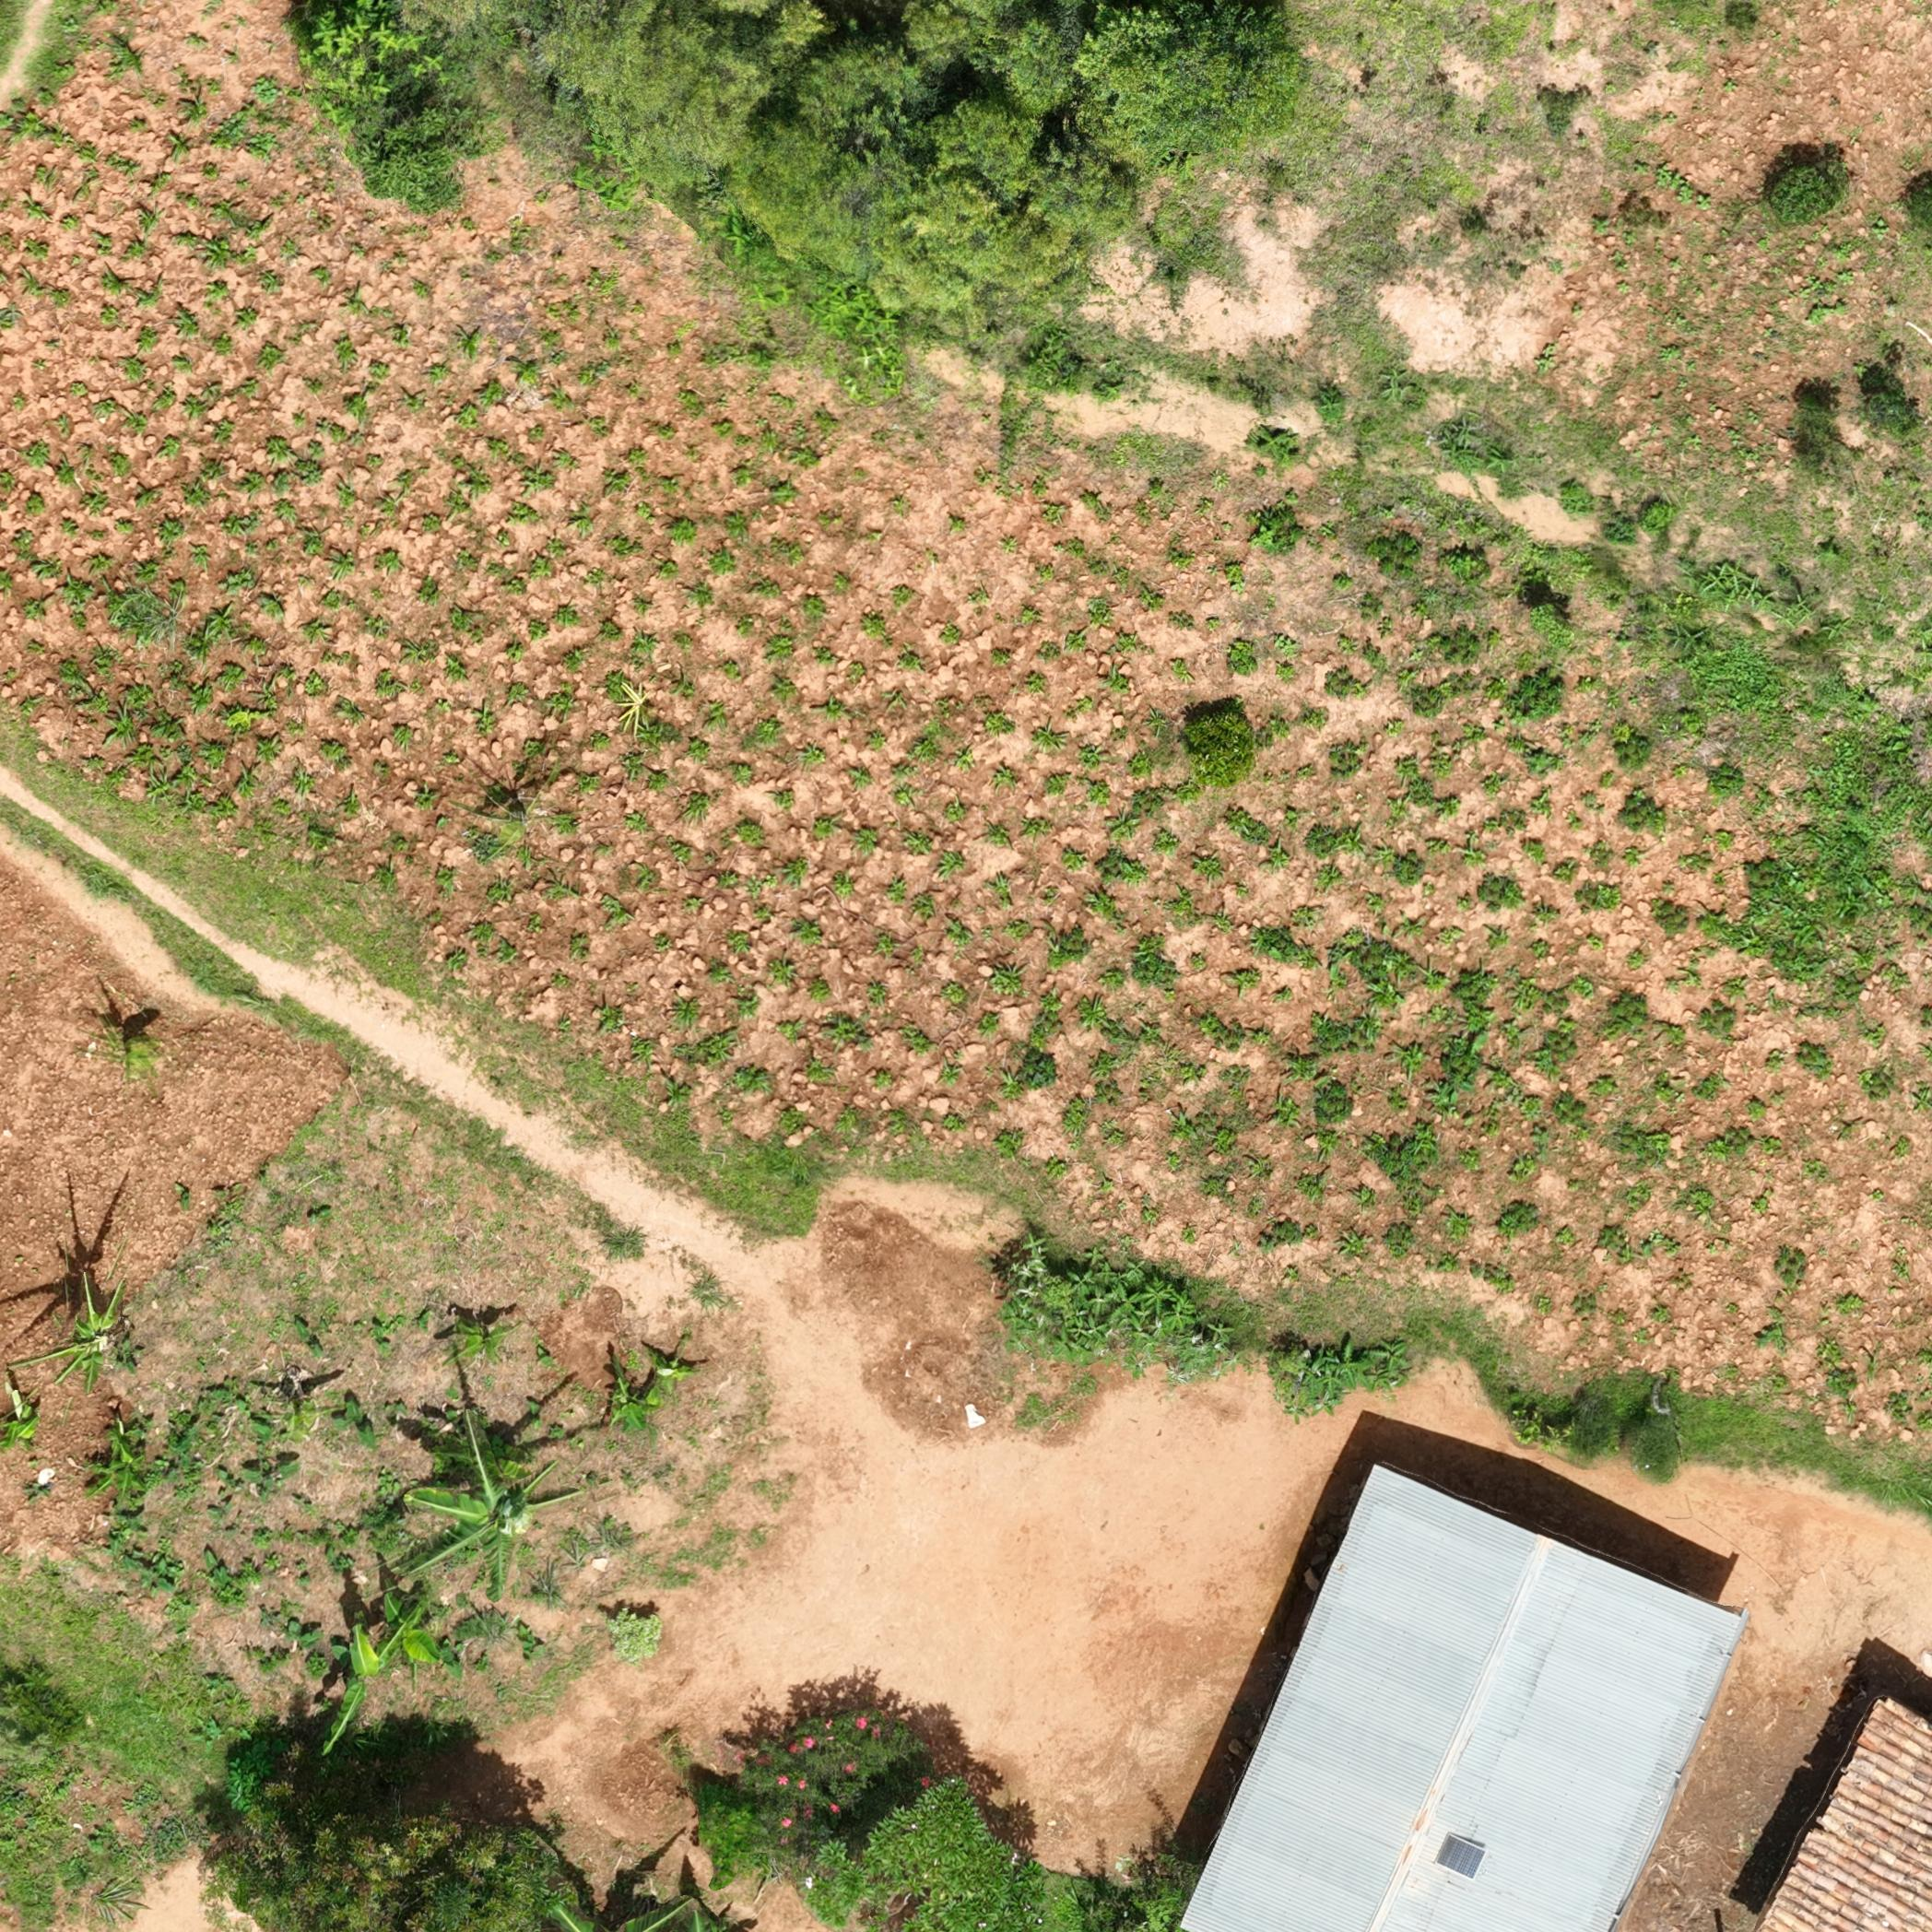Banana: (439, 1428, 548, 1576), (78, 1003, 209, 1099), (48, 1284, 152, 1396), (331, 1606, 416, 1729), (448, 1320, 517, 1375), (602, 1378, 660, 1440), (94, 1451, 156, 1507), (642, 1343, 708, 1392), (384, 1596, 433, 1661), (9, 1399, 41, 1453)
